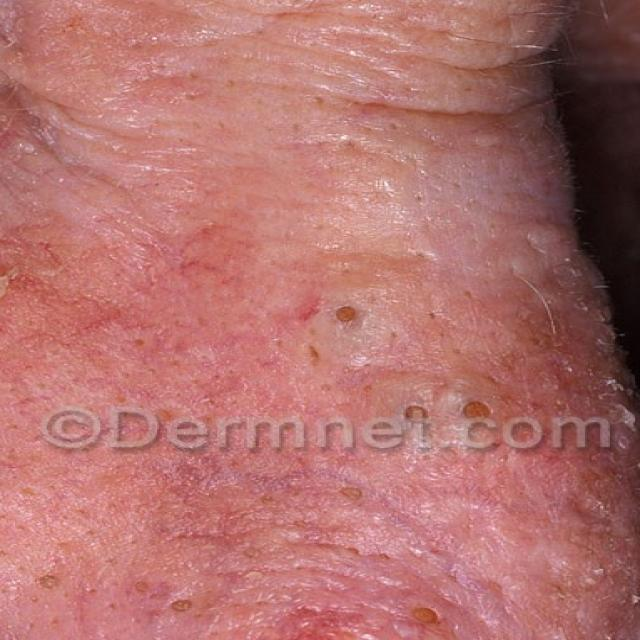Acne: (281, 232, 499, 567), (187, 553, 538, 640), (531, 222, 640, 499), (0, 225, 127, 391)
